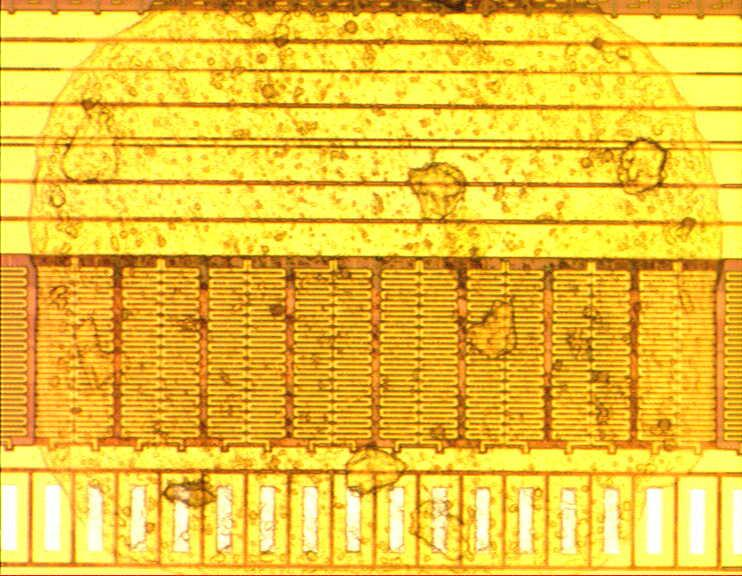PO CONTAMINATION: (18, 1, 733, 576)
